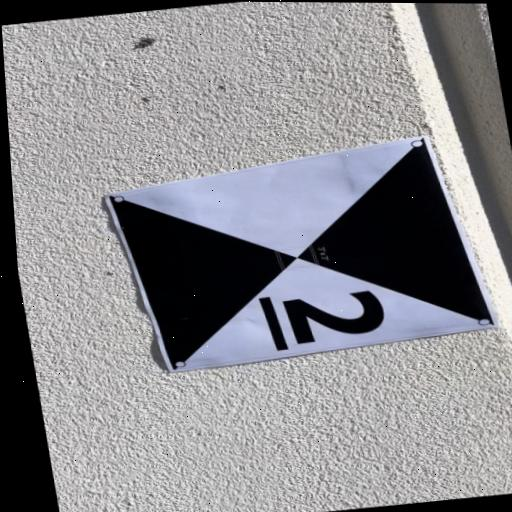target2: (120, 136, 499, 372)
